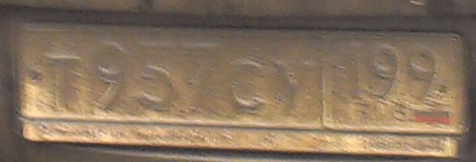character: (179, 36, 227, 121), (133, 38, 177, 113), (89, 38, 127, 114), (271, 55, 312, 124), (45, 46, 84, 113), (228, 53, 268, 117), (405, 40, 439, 103), (332, 39, 364, 101), (370, 39, 400, 101)
